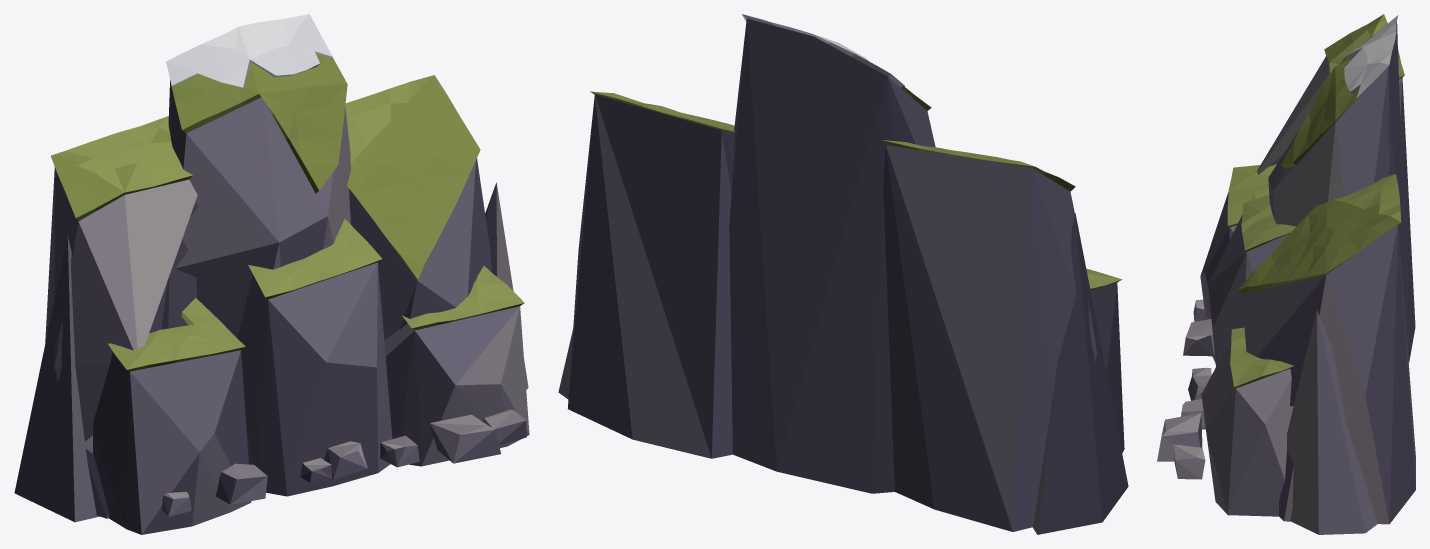
The model's file is mtn_cliff_a.glb.
3 renders of one model, left to right at view 1: azimuth 30°, elevation 25°; view 2: azimuth 150°, elevation 25°; view 3: azimuth 270°, elevation 25°, orthographic. The views are drawn at different scales.
Parts seen in each view (by area): view 1: mtn_cliff_a; view 2: mtn_cliff_a; view 3: mtn_cliff_a.
Part boxes in pixels (x1,y1,x2,y2): mtn_cliff_a: [14, 14, 529, 534]; mtn_cliff_a: [558, 14, 1128, 534]; mtn_cliff_a: [1157, 14, 1415, 534].
Bounding box in the file's own units: 35.72 × 27.51 × 16.63.
